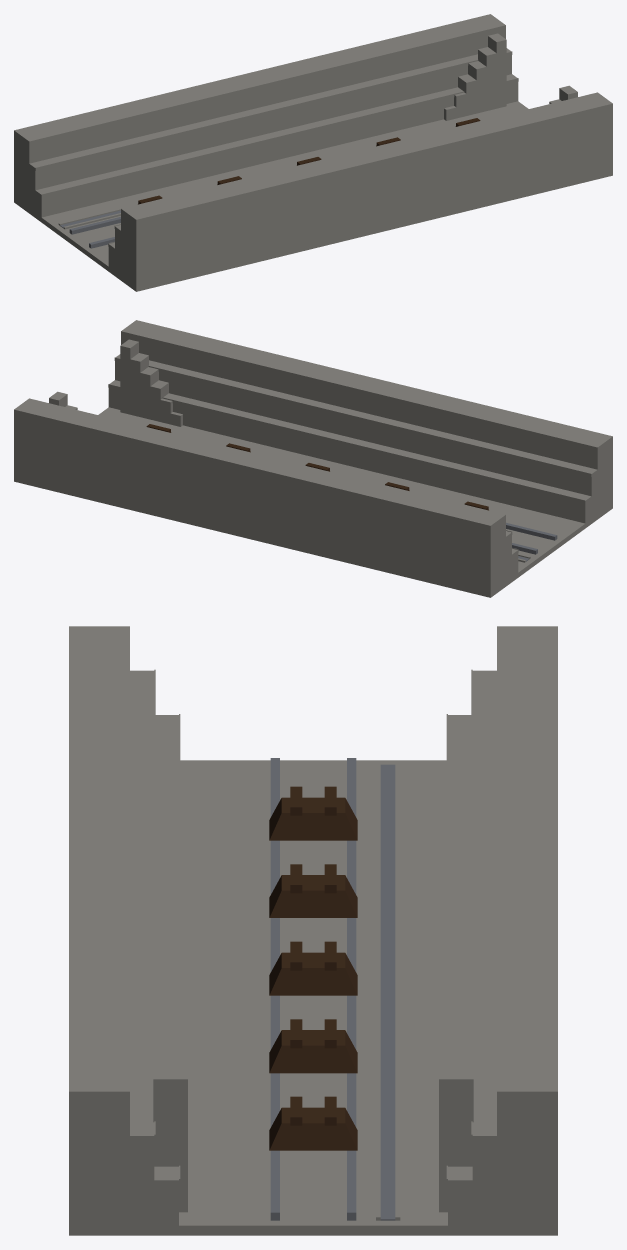
File: SN_Dry_Dock.glb
3 views of the same model, one above another, from view 1: azimuth 30°, elevation 25°; view 2: azimuth 150°, elevation 25°; view 3: azimuth 270°, elevation 25° (orthographic). The views are drawn at different scales.
Visible parts, largest first — view 1: SN_Dry_Dock; view 2: SN_Dry_Dock; view 3: SN_Dry_Dock.
Boxes of the visible parts, x1,y1,x2,y2 form: SN_Dry_Dock: (14,14,612,291); SN_Dry_Dock: (14,320,612,597); SN_Dry_Dock: (69,626,557,1235).
Bounding box in the file's own units: 18 × 2.6 × 8.
